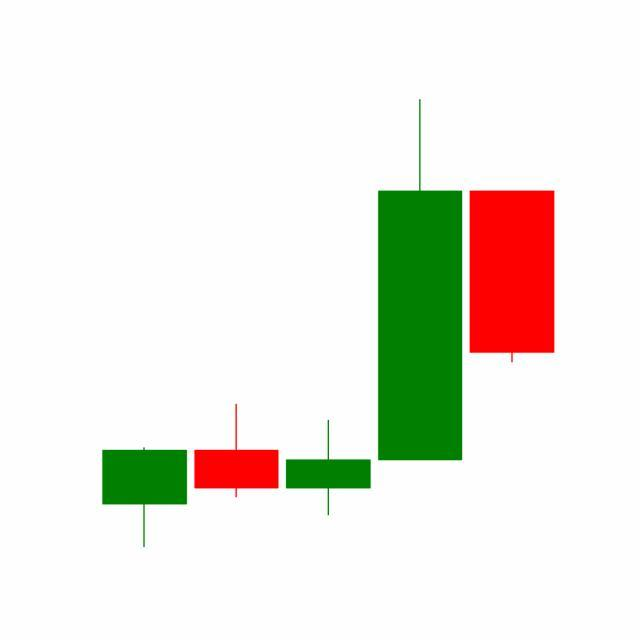Marubozu: (466, 189, 559, 365)
